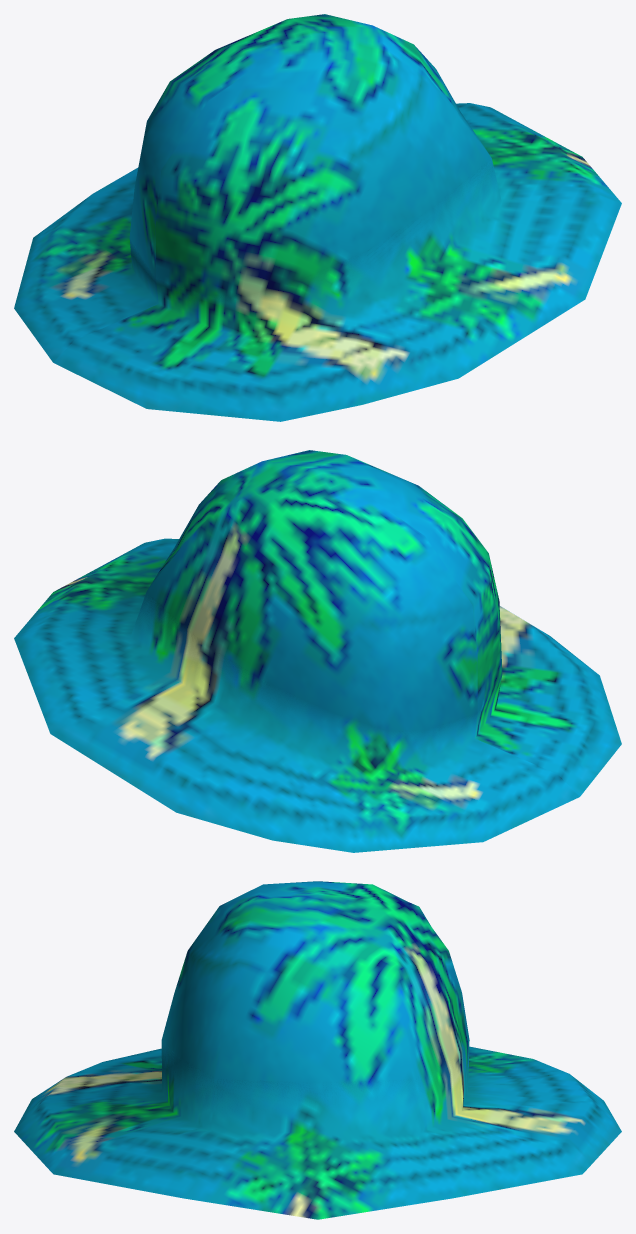
File: hat_0450013.FBX
3 views of the same model, one above another, from view 1: azimuth 30°, elevation 25°; view 2: azimuth 150°, elevation 25°; view 3: azimuth 270°, elevation 25° (orthographic). The views are drawn at different scales.
Visible parts, largest first — view 1: hat_0450013; view 2: hat_0450013; view 3: hat_0450013.
Boxes of the visible parts, x1,y1,x2,y2 form: hat_0450013: (14,14,621,421); hat_0450013: (14,450,621,852); hat_0450013: (14,881,621,1219).
Size of the model in its own units: 41.57 by 20.02 by 40.29.
